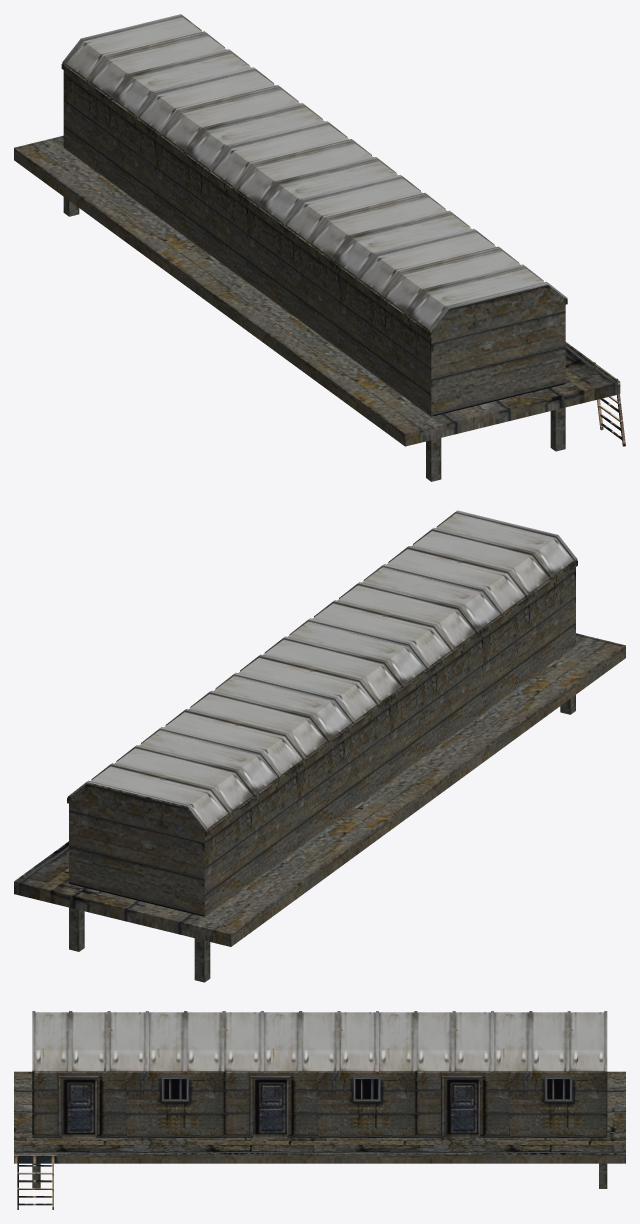
Rendered from s_barracks2_cad.glb.
3 views of the same model, one above another, from view 1: azimuth 30°, elevation 25°; view 2: azimuth 150°, elevation 25°; view 3: azimuth 270°, elevation 25° (orthographic). The views are drawn at different scales.
Parts seen in each view (by area): view 1: Object01; view 2: Object01; view 3: Object01.
Part boxes in pixels (x1=…): Object01: x1=14, y1=14, x2=625, y2=481; Object01: x1=14, y1=510, x2=625, y2=982; Object01: x1=14, y1=1011, x2=625, y2=1209.
Bounding box in the file's own units: 7.82 × 5.78 × 23.75.
1 material, 1 textured.
